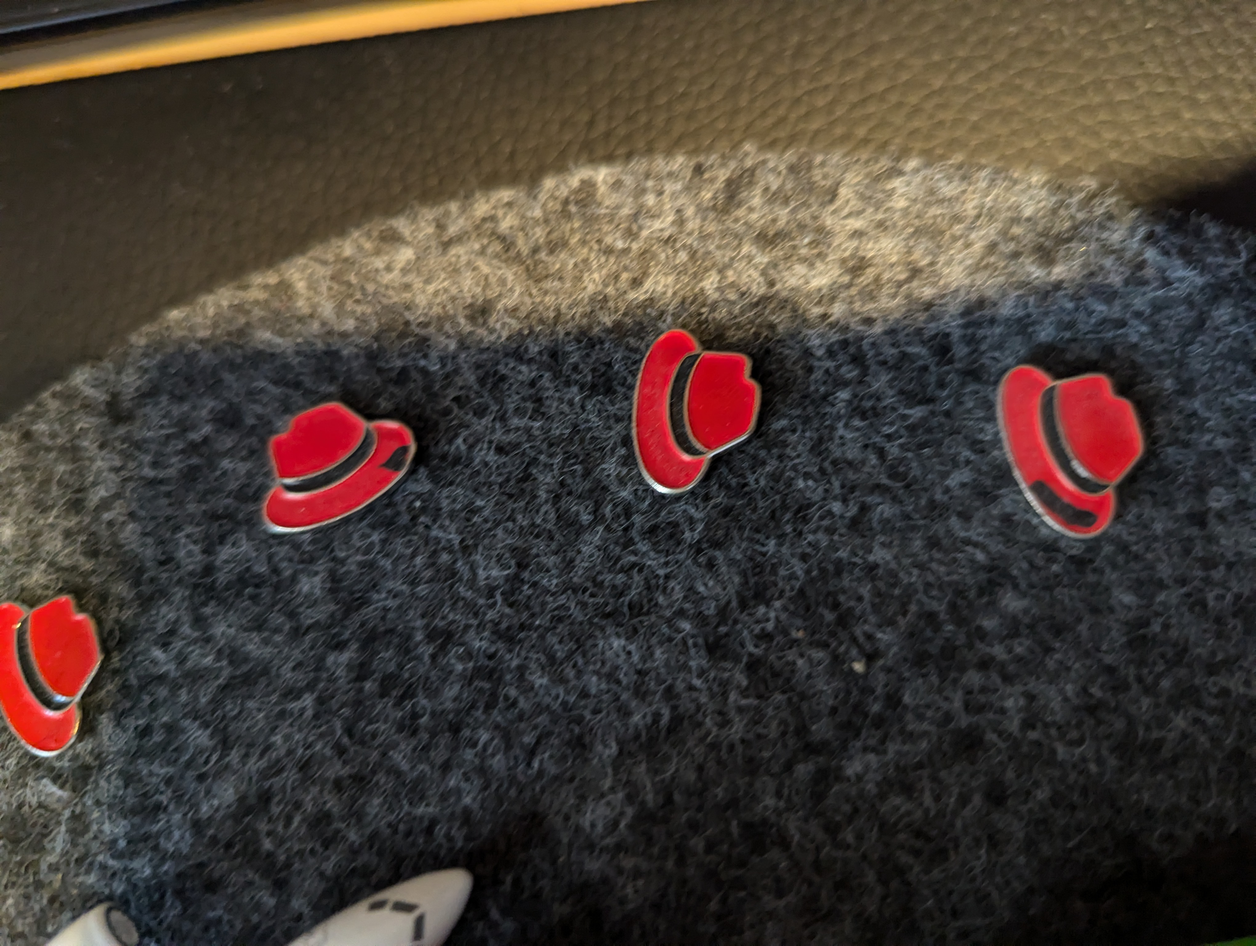Red-Hat: (615, 296, 777, 529), (979, 336, 1147, 560), (231, 387, 437, 550), (0, 566, 134, 771)
Scratch: (1009, 464, 1119, 534), (367, 436, 447, 487)
